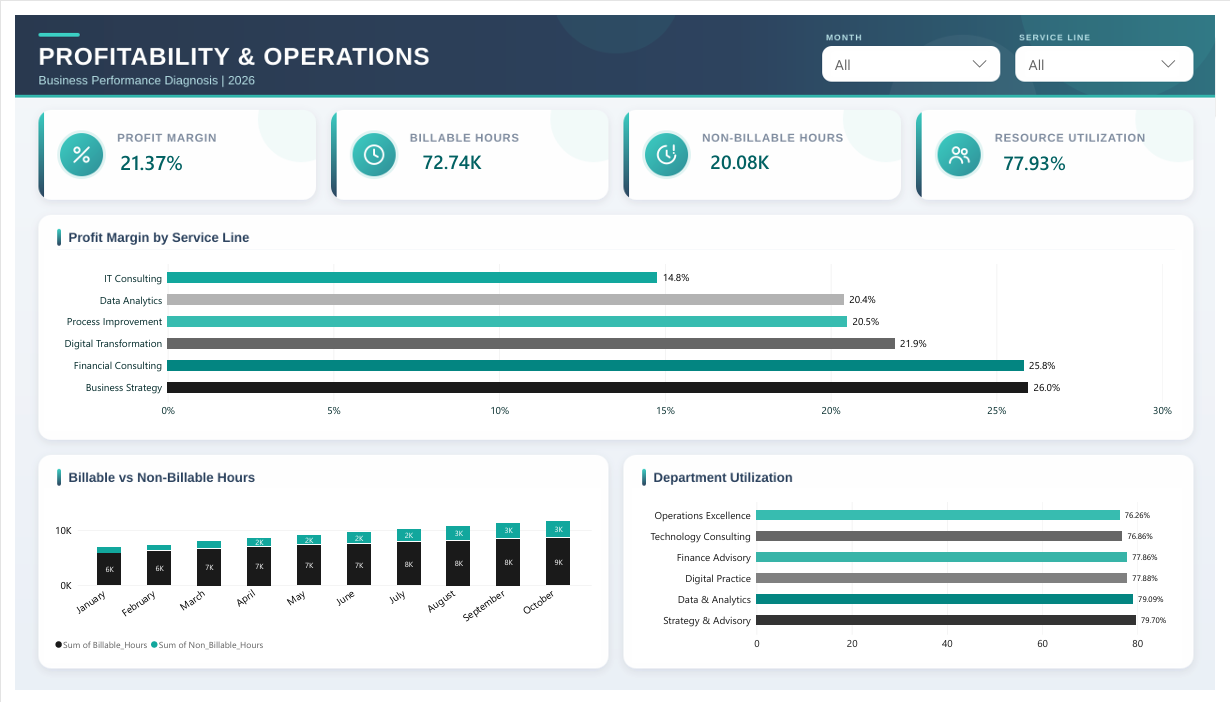

The dashboard page shown, as its layout file describes it:
{"tool":"powerbi","page":{"name":"Profitability & Operations","canvas":[1920,1080],"ordinal":1},"visuals":[{"type":"cardVisual","fields":{"Data":["business_performance business.Profit Margin"]},"box":[150.9,189.6,281.6,84.7],"z":0},{"type":"cardVisual","fields":{"Data":["business_performance business.Billable Hours"]},"box":[635,189.6,191.4,84.7],"z":1},{"type":"cardVisual","fields":{"Data":["business_performance business.Non-Billable Hours"]},"box":[1095.1,189.6,300,84.7],"z":2},{"type":"cardVisual","fields":{"Data":["business_performance business.Resource Utilization"]},"box":[1564.4,195.1,206.1,75.5],"z":3},{"type":"slicer","fields":{"Values":["business_performance business.Month"]},"box":[1299.4,51.5,265,47.9],"z":4},{"type":"slicer","fields":{"Values":["business_performance business.Service_Line"]},"box":[1608.6,51.5,257.7,47.9],"z":5},{"type":"clusteredBarChart","fields":{"Category":["business_performance business.Service_Line"],"Y":["business_performance business.Profit Margin"]},"box":[46,375.5,1820.3,289],"z":6},{"type":"columnChart","fields":{"Category":["business_performance business.Month"],"Y":["Sum(business_performance business.Billable_Hours)","Sum(business_performance business.Non_Billable_Hours)"]},"box":[46,756.4,890.8,279.8],"z":7},{"type":"clusteredBarChart","fields":{"Category":["business_performance business.Employee_Department"],"Y":["Avg(business_performance business.Resource_Utilization_Percentage)"]},"box":[986.5,756.4,879.8,279.8],"z":8}]}

Visuals, with their boxes in screenshot pixels (x1, y1, x2, y2), scaled from the page's 1920x1080 canvas onto the 1230x702 screenshot:
cardVisual - business_performance business.Profit Margin: {"x1": 97, "y1": 123, "x2": 277, "y2": 178}
cardVisual - business_performance business.Billable Hours: {"x1": 407, "y1": 123, "x2": 529, "y2": 178}
cardVisual - business_performance business.Non-Billable Hours: {"x1": 702, "y1": 123, "x2": 894, "y2": 178}
cardVisual - business_performance business.Resource Utilization: {"x1": 1002, "y1": 127, "x2": 1134, "y2": 176}
slicer - business_performance business.Month: {"x1": 832, "y1": 33, "x2": 1002, "y2": 65}
slicer - business_performance business.Service_Line: {"x1": 1031, "y1": 33, "x2": 1196, "y2": 65}
clusteredBarChart - business_performance business.Service_Line x business_performance business.Profit Margin: {"x1": 29, "y1": 244, "x2": 1196, "y2": 432}
columnChart - business_performance business.Month x Sum(business_performance business.Billable_Hours): {"x1": 29, "y1": 492, "x2": 600, "y2": 674}
clusteredBarChart - business_performance business.Employee_Department x Avg(business_performance business.Resource_Utilization_Percentage): {"x1": 632, "y1": 492, "x2": 1196, "y2": 674}
